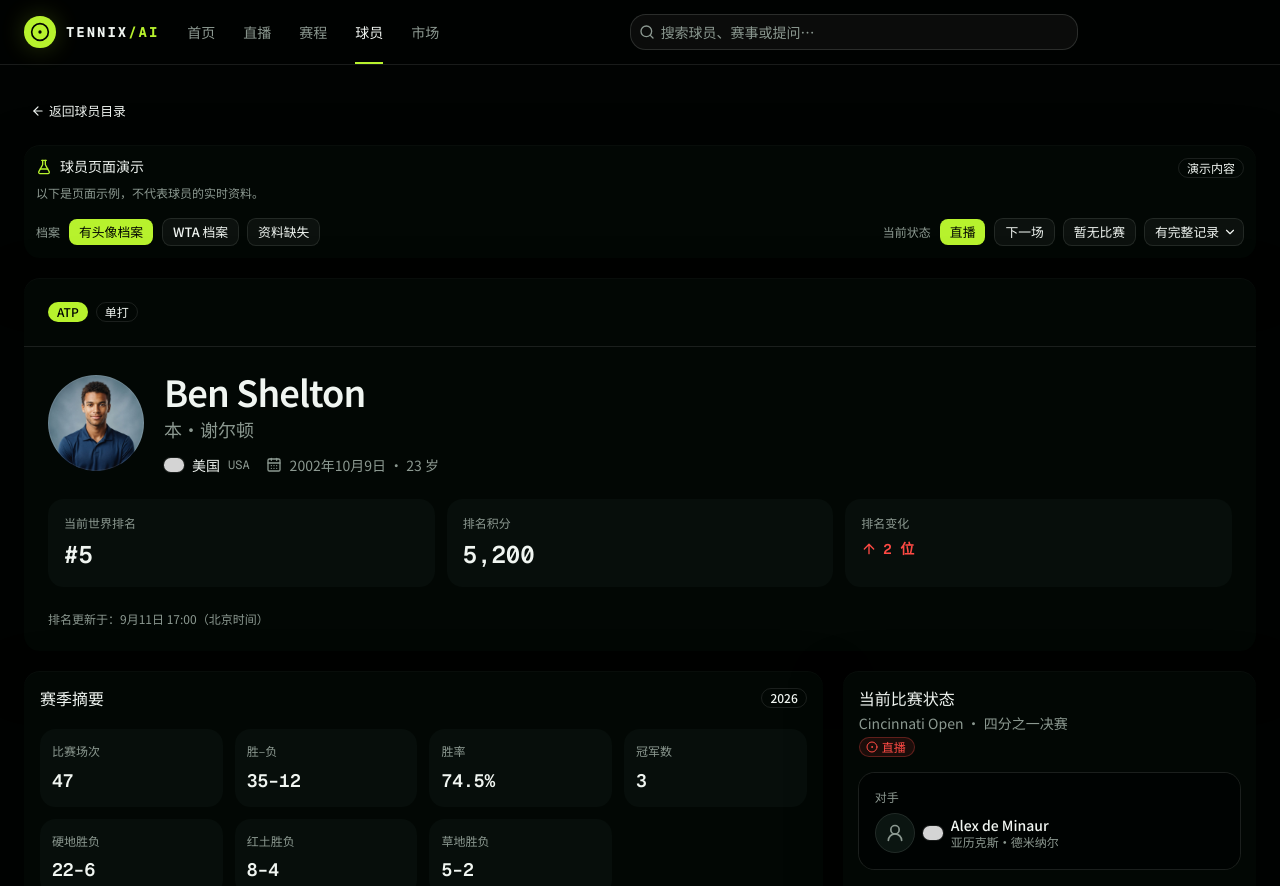
Test: PlayerProfilePage header and current status › renders the exact empty copy when there is no live or next match
The image size is (1280, 886).
Step 1. Click the button "暂无比赛" → [1099, 232], box [1063, 218, 1136, 246]
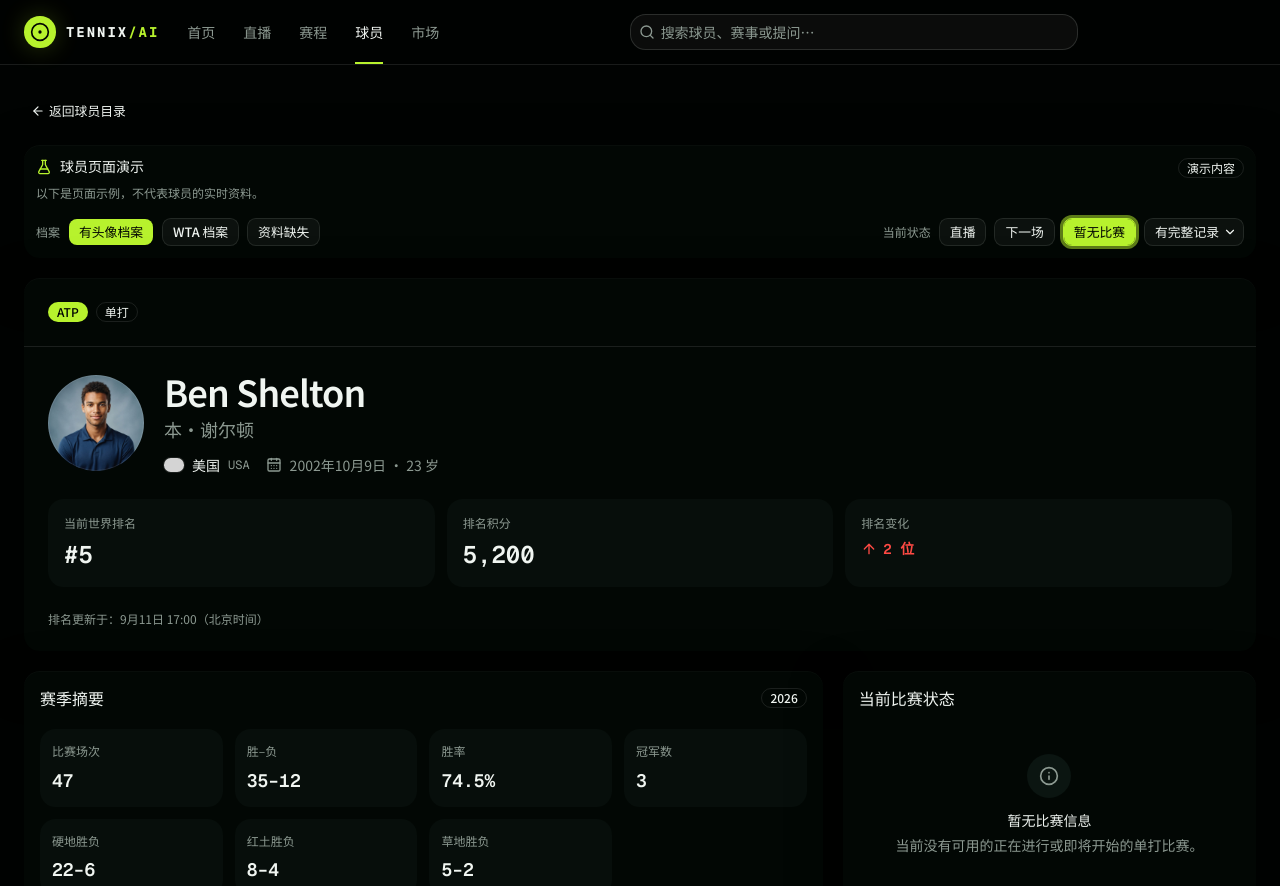
Now the text "暂无比赛信息" is shown, box [1007, 810, 1091, 830]
